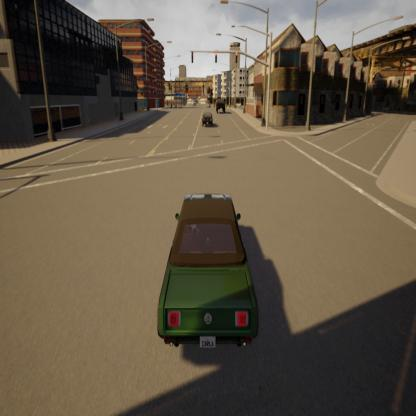Cars: (156, 178, 263, 364), (199, 109, 215, 127), (214, 96, 226, 112)
